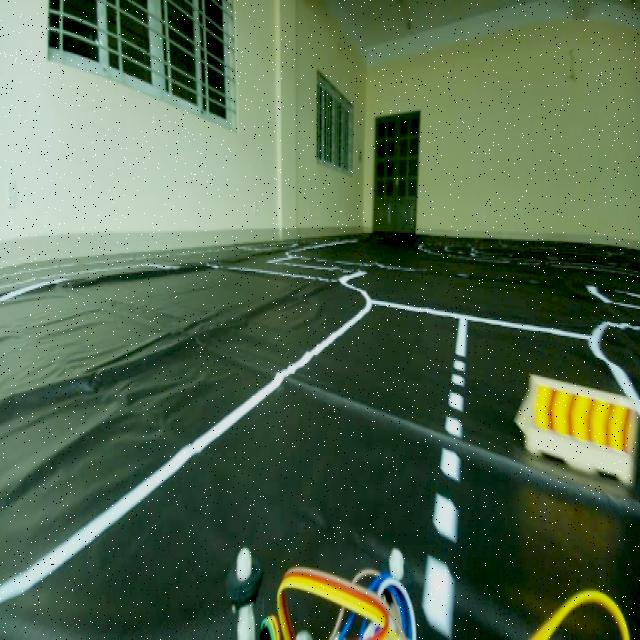roadblock: (514, 367, 640, 508)
